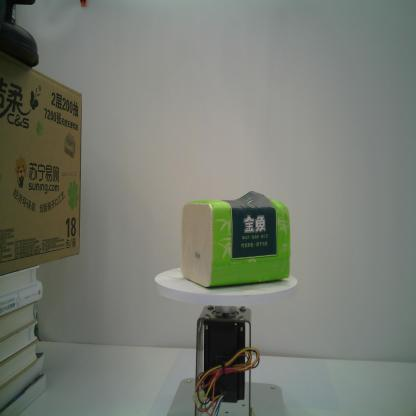Tissue: (177, 188, 292, 290)
